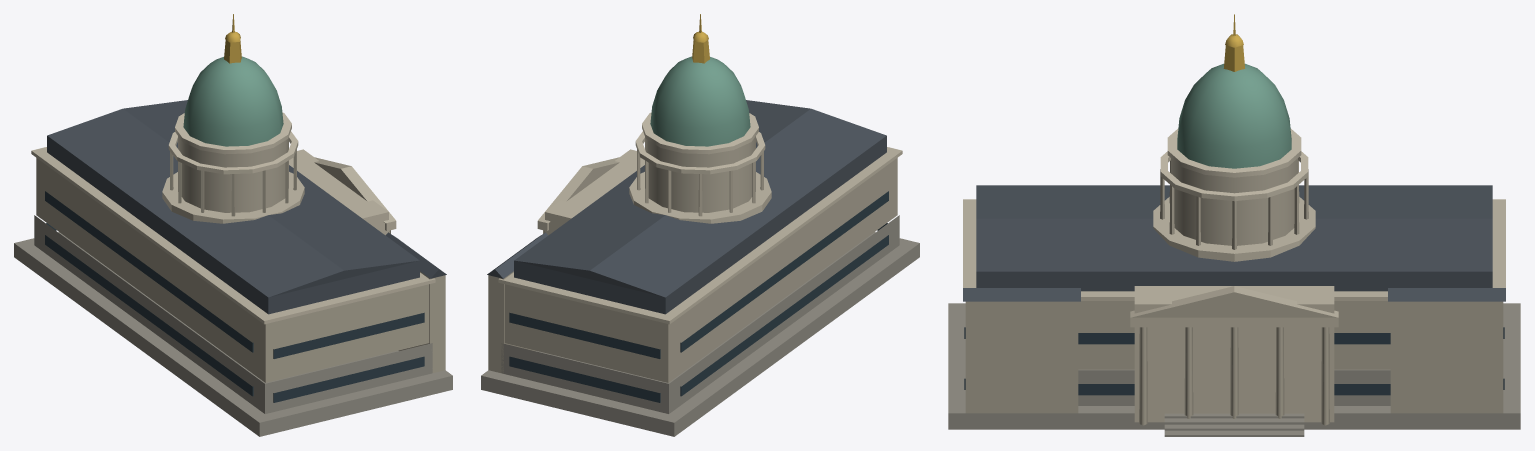
Rendered from mobile.glb.
3 renders of one model, left to right at view 1: azimuth 30°, elevation 25°; view 2: azimuth 150°, elevation 25°; view 3: azimuth 270°, elevation 25°, orthographic. The views are drawn at different scales.
Parts seen in each view (by area): view 1: lm.city-hall; view 2: lm.city-hall; view 3: lm.city-hall.
Part boxes in pixels (x1,y1,x2,y2): lm.city-hall: [14, 14, 452, 436]; lm.city-hall: [481, 14, 919, 436]; lm.city-hall: [948, 14, 1520, 436].
Bounding box in the file's own units: 73 × 91.75 × 132.
